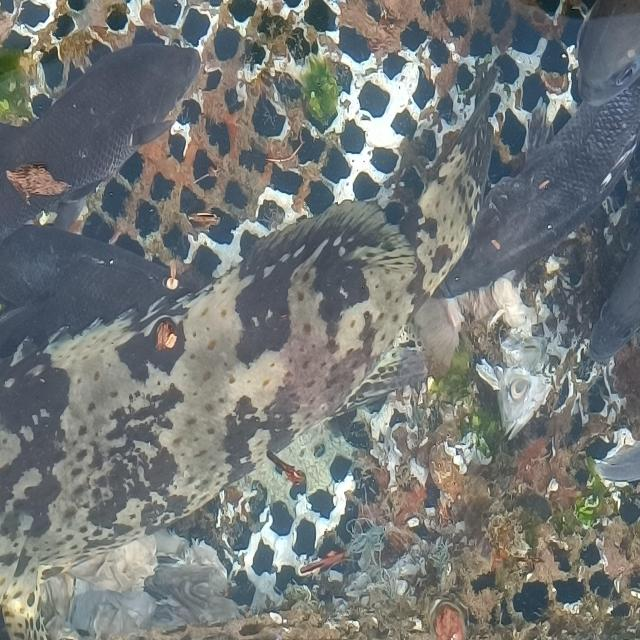ikan: (433, 77, 639, 300), (1, 39, 202, 241)
